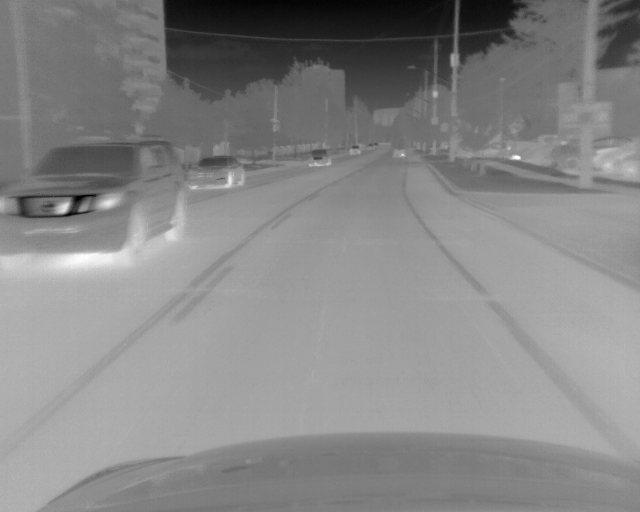car: (1, 138, 190, 261), (557, 136, 634, 175), (189, 155, 247, 190), (607, 138, 640, 177), (307, 149, 331, 168), (391, 144, 408, 159), (348, 144, 361, 155), (367, 143, 378, 151)
